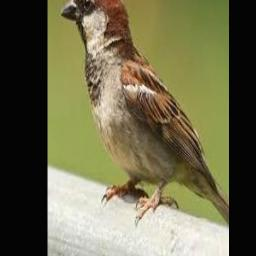Sparrow: (60, 0, 229, 226)
